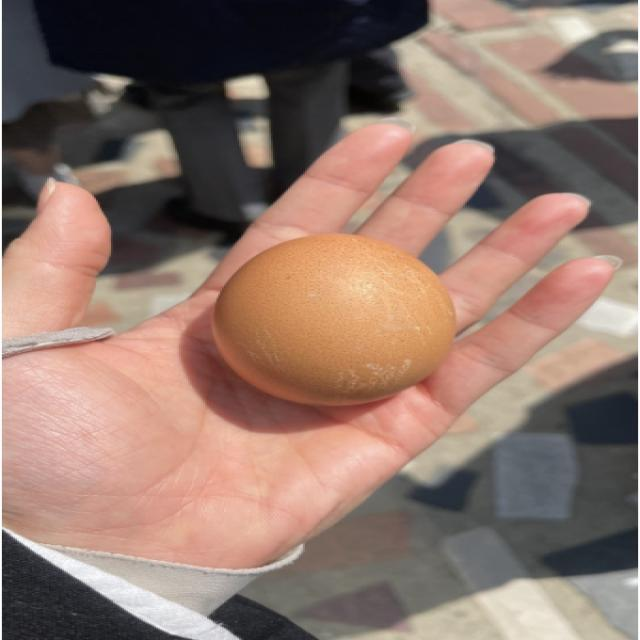eggs: (211, 227, 462, 404)
